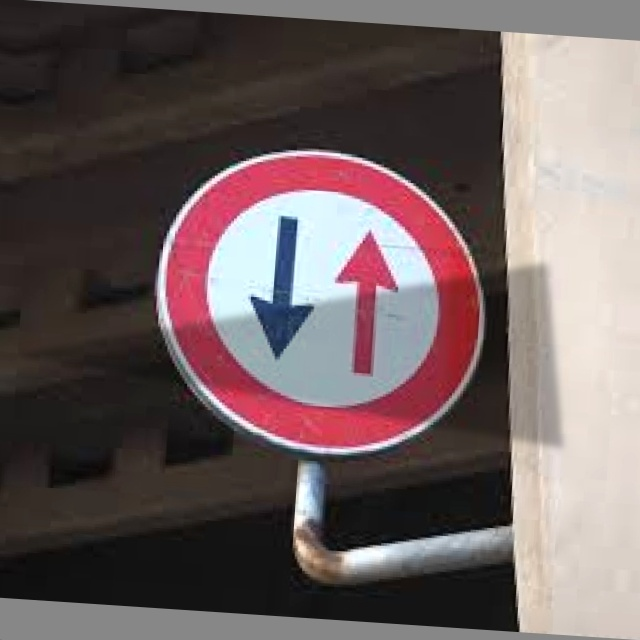Mandatory_Two_Way_Traffic: (149, 142, 512, 456)
